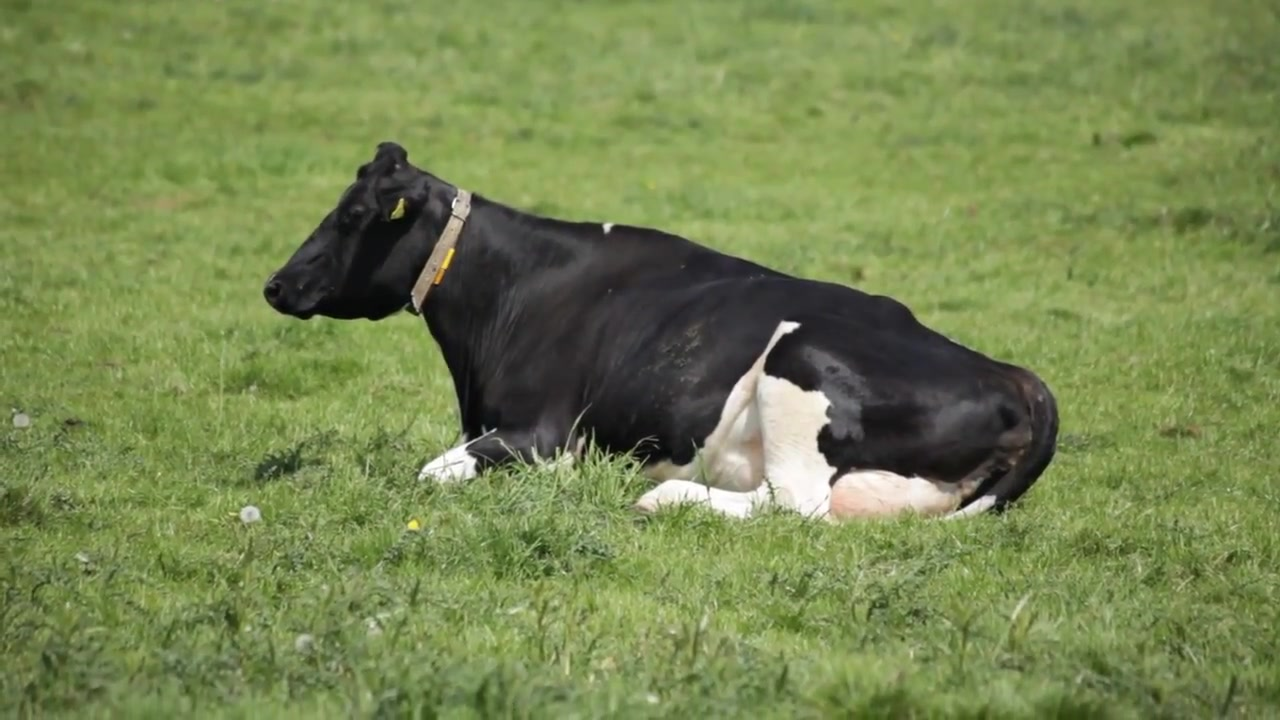cow: (252, 140, 1067, 527)
